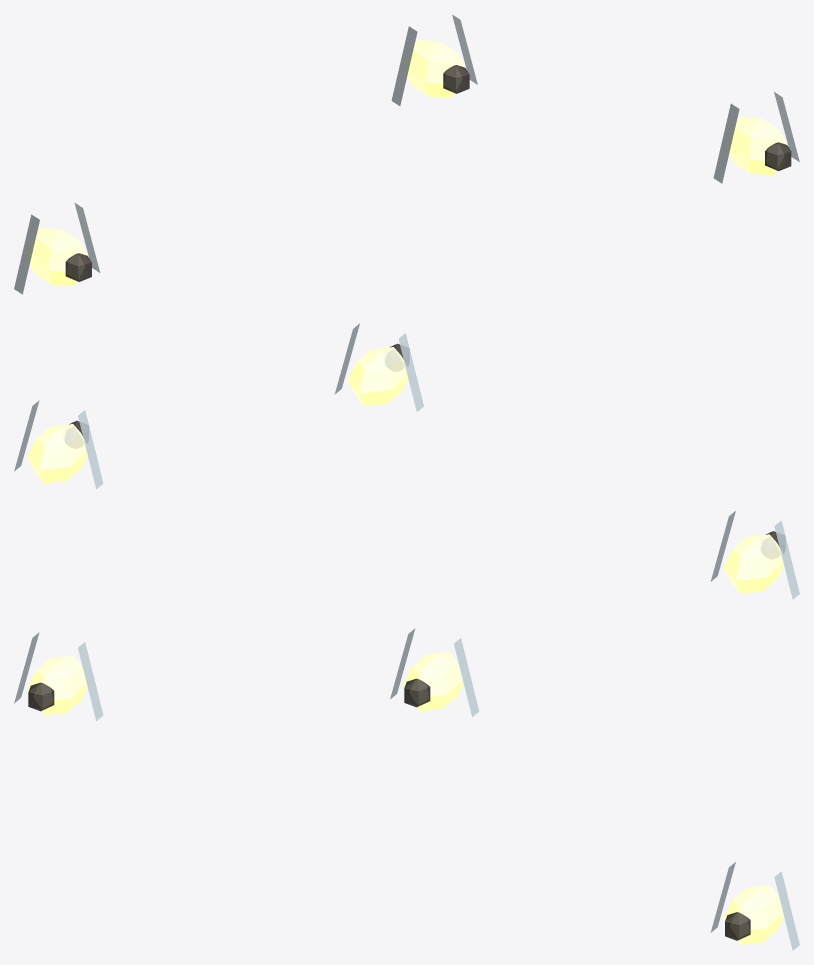
File: firefly.glb
3 renders of one model, top to bottom at view 1: azimuth 30°, elevation 25°; view 2: azimuth 150°, elevation 25°; view 3: azimuth 330°, elevation 25°, orthographic.
Parts seen in each view (by area): view 1: Firefly_01, Firefly_00, Firefly_02; view 2: Firefly_02, Firefly_00, Firefly_01; view 3: Firefly_00, Firefly_01, Firefly_02.
Boxes of the visible parts, x1,y1,x2,y2 form: Firefly_01: [391, 14, 477, 106]; Firefly_00: [14, 203, 100, 294]; Firefly_02: [713, 92, 799, 183]; Firefly_02: [14, 400, 103, 488]; Firefly_00: [710, 511, 799, 599]; Firefly_01: [334, 323, 423, 411]; Firefly_00: [14, 632, 103, 720]; Firefly_01: [390, 628, 479, 717]; Firefly_02: [710, 862, 799, 950].
Bounding box in the file's own units: 0.4505 × 0.1253 × 0.0482.
